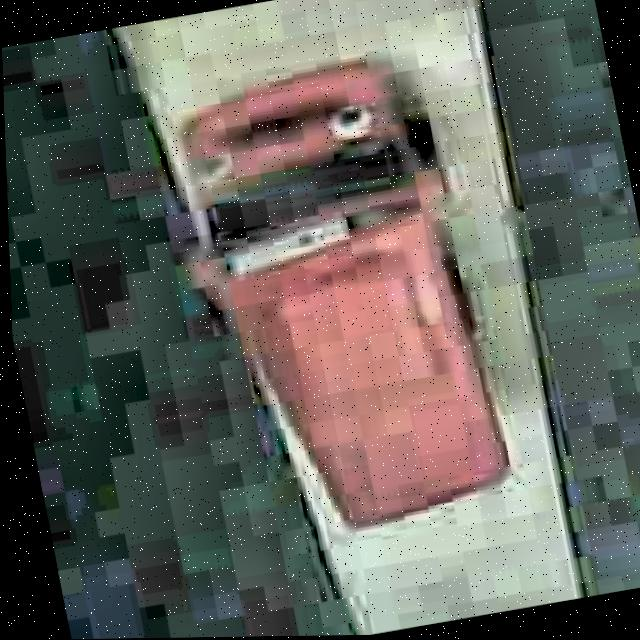bus: (153, 38, 526, 555)
